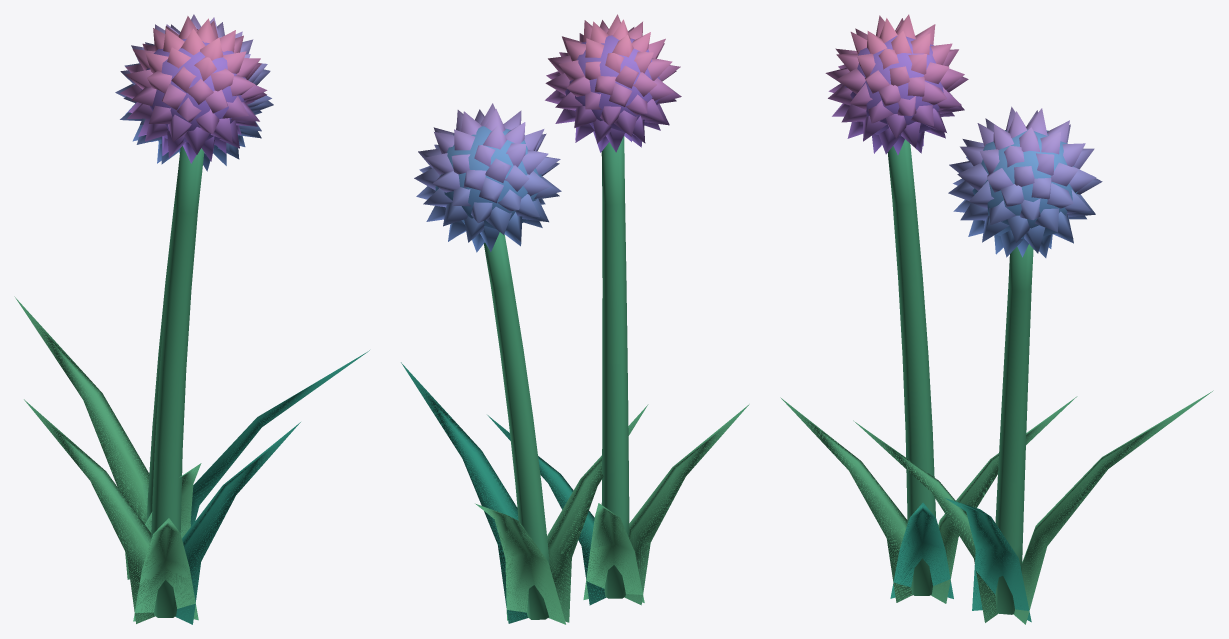
File: verdant_flower_pompom.glb
The picture shows the model from 3 angles, left to right: view 1: azimuth 30°, elevation 25°; view 2: azimuth 150°, elevation 25°; view 3: azimuth 270°, elevation 25°; orthographic projection. The views are drawn at different scales.
Parts seen in each view (by area): view 1: verdant_flower_pompom; view 2: verdant_flower_pompom; view 3: verdant_flower_pompom.
Boxes of the visible parts, <box> form: verdant_flower_pompom: <box>14,14,369,624</box>; verdant_flower_pompom: <box>401,14,749,624</box>; verdant_flower_pompom: <box>780,14,1213,624</box>.
Size of the model in its own units: 0.6162 by 1.23 by 0.8318.
